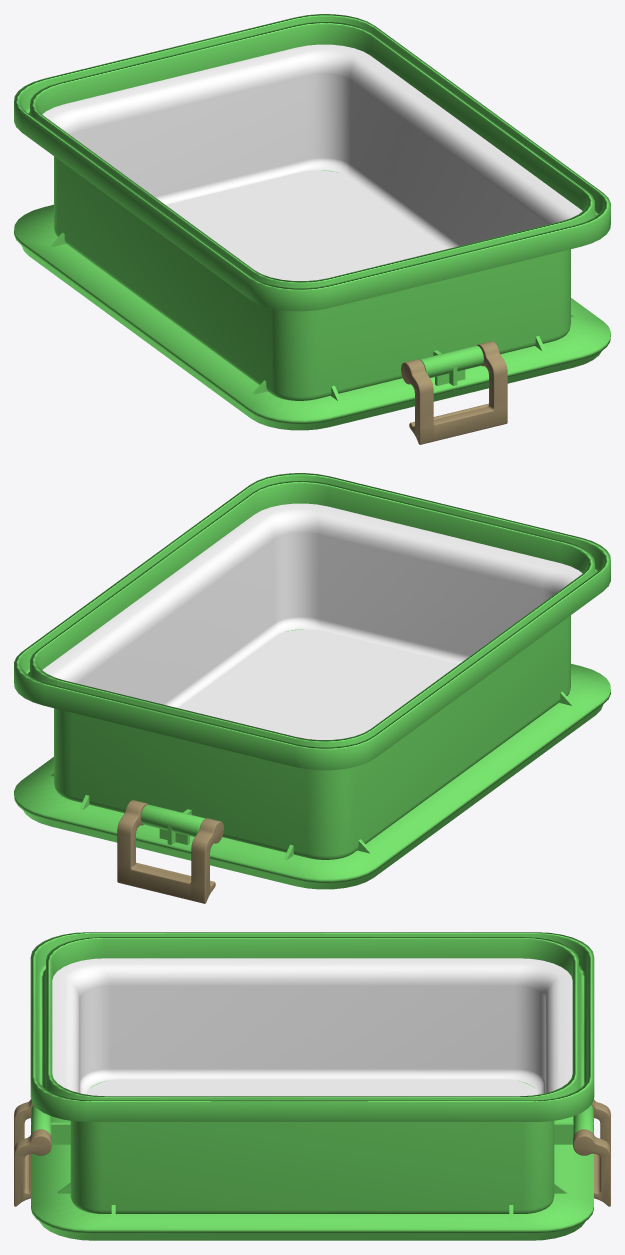
The picture shows the model from 3 angles, top to bottom: view 1: azimuth 30°, elevation 25°; view 2: azimuth 150°, elevation 25°; view 3: azimuth 270°, elevation 25°; orthographic projection.
Visible parts, largest first — view 1: Cube.058, Cube.059, Plane.040, Plane.039, Plane.042, Circle.009, Cylinder.010; view 2: Cube.058, Cube.059, Plane.040, Plane.039, Plane.042, Circle.009, Cylinder.010; view 3: Cube.058, Cube.059, Plane.040, Plane.039, Plane.042, Circle.009, Cylinder.010.
Part boxes in pixels (bbox=[...]): Cube.058: bbox=[42, 44, 582, 248]; Cube.059: bbox=[54, 156, 570, 400]; Plane.040: bbox=[14, 14, 610, 311]; Plane.039: bbox=[14, 170, 610, 430]; Plane.042: bbox=[166, 170, 446, 280]; Circle.009: bbox=[401, 341, 507, 444]; Cylinder.010: bbox=[419, 345, 483, 390]; Cube.058: bbox=[42, 503, 582, 707]; Cube.059: bbox=[54, 615, 570, 859]; Plane.040: bbox=[14, 473, 610, 770]; Plane.039: bbox=[14, 629, 610, 889]; Plane.042: bbox=[178, 629, 458, 739]; Circle.009: bbox=[117, 800, 223, 903]; Cylinder.010: bbox=[141, 804, 205, 849]; Cube.058: bbox=[52, 958, 572, 1094]; Cube.059: bbox=[70, 1121, 554, 1213]; Plane.040: bbox=[30, 932, 594, 1121]; Plane.039: bbox=[31, 1080, 593, 1240]; Plane.042: bbox=[86, 1079, 538, 1096]; Circle.009: bbox=[14, 1099, 610, 1206]; Cylinder.010: bbox=[31, 1105, 593, 1144].
Size of the model in its own units: 4.43 by 2.05 by 6.56.
